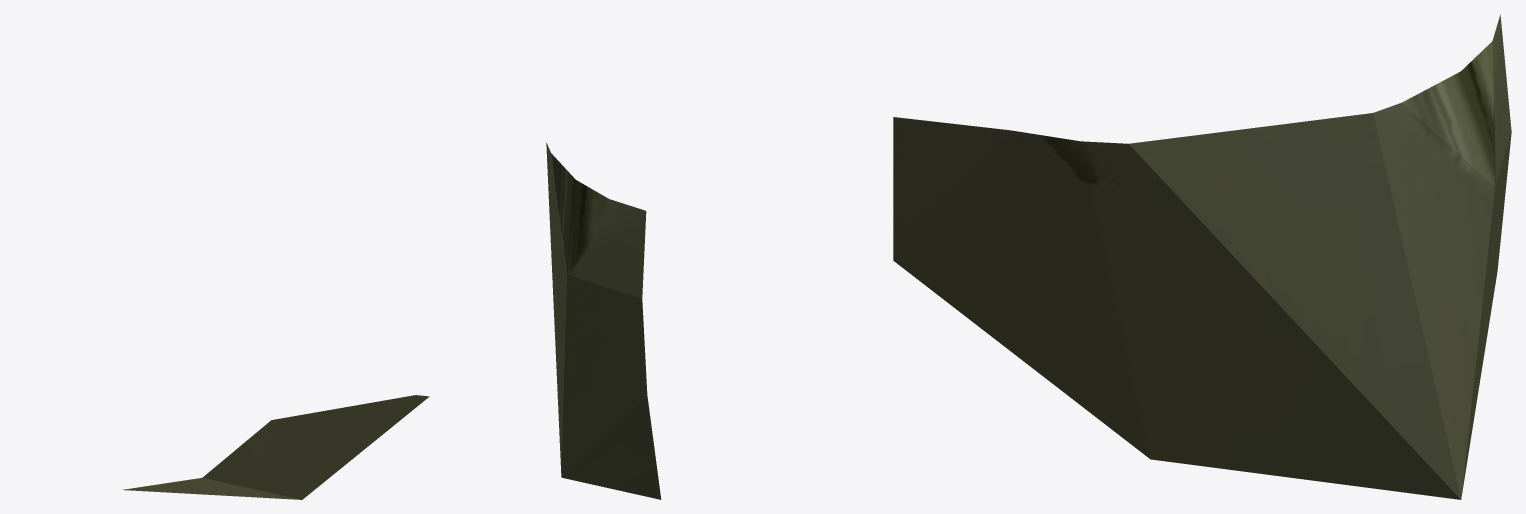
3 renders of one model, left to right at view 1: azimuth 30°, elevation 25°; view 2: azimuth 150°, elevation 25°; view 3: azimuth 270°, elevation 25°, orthographic. The views are drawn at different scales.
Size of the model in its own units: 0.7152 by 1.08 by 1.44.
1 material, 1 textured.
